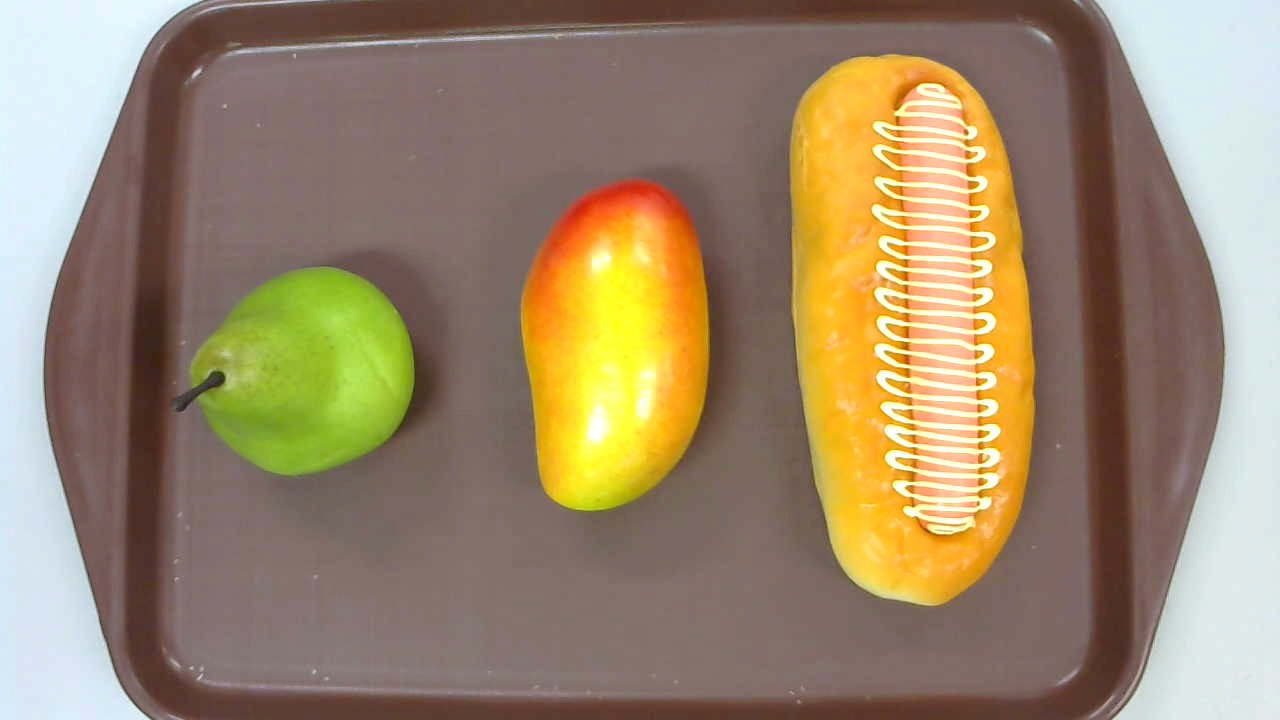green pear: (170, 265, 416, 475)
hot dog: (790, 54, 1035, 603)
red mango: (518, 178, 708, 511)
